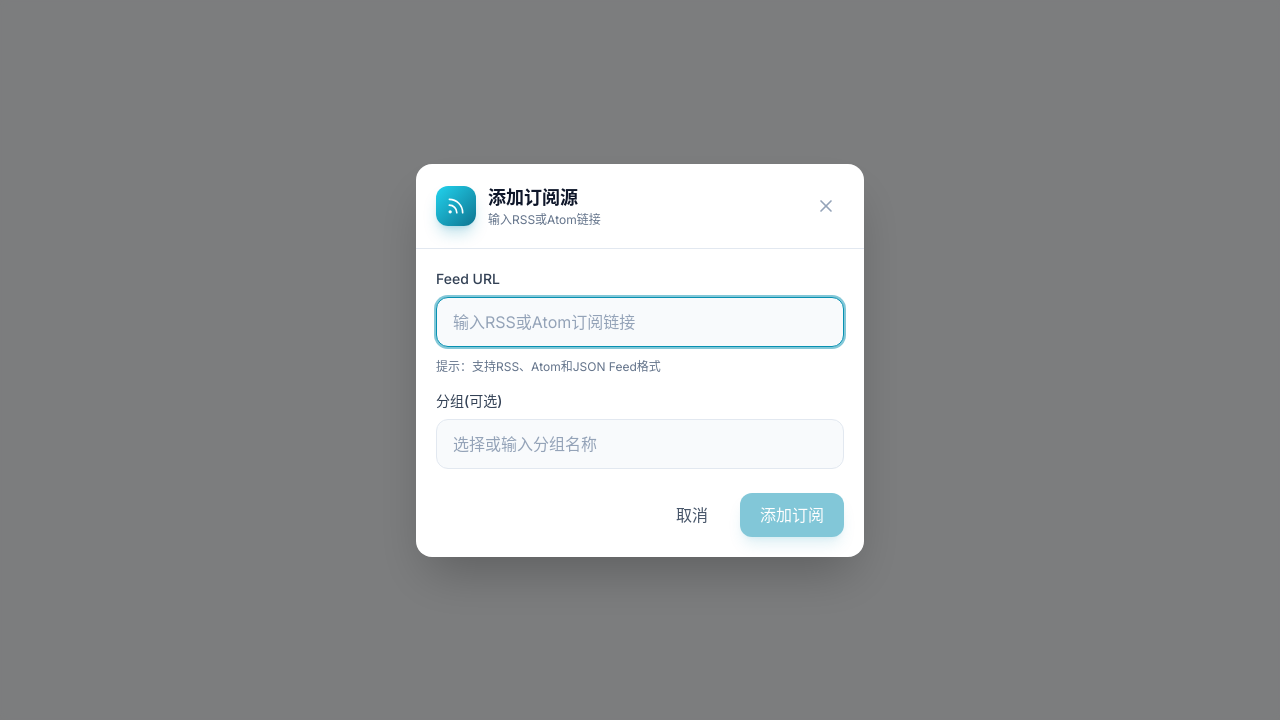
Test: AddFeedModal › should display Connection error message verbatim
In the field labelled "Feed URL": [640, 322] box [436,296,844,346], type "https://example.com/feed.xml"
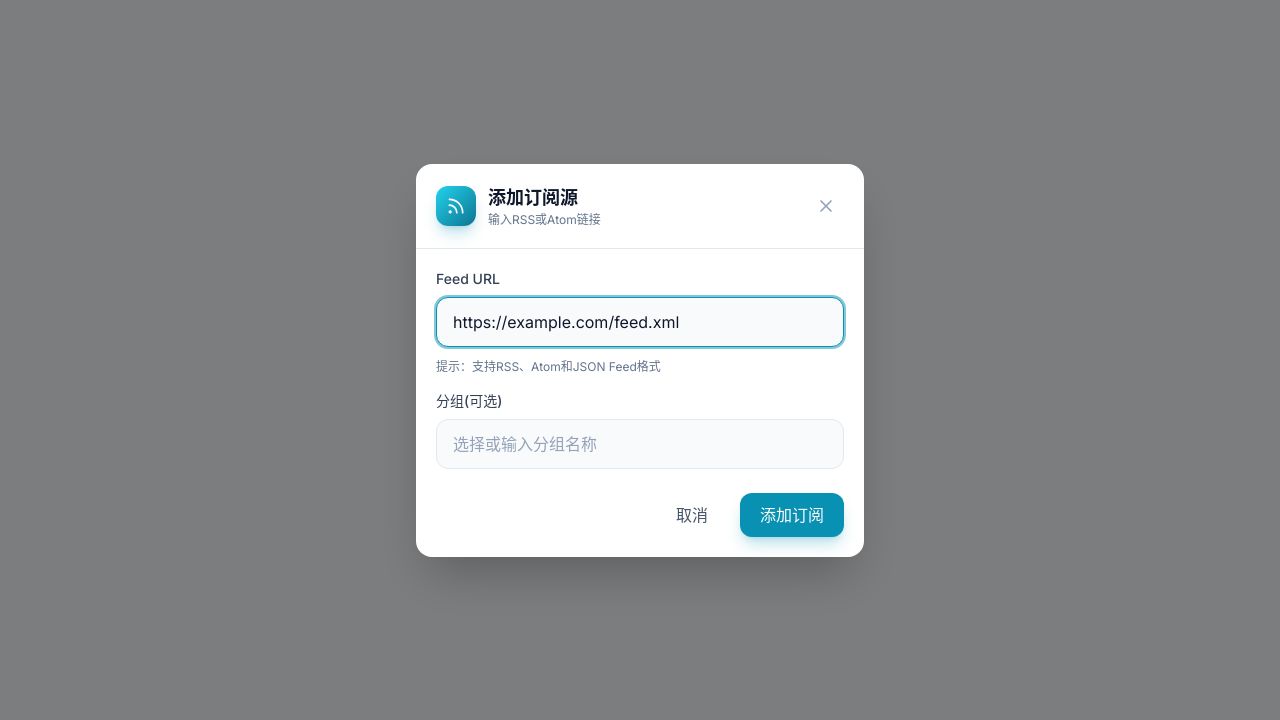
Click the button "添加订阅": [792, 514] box [740,492,844,536]
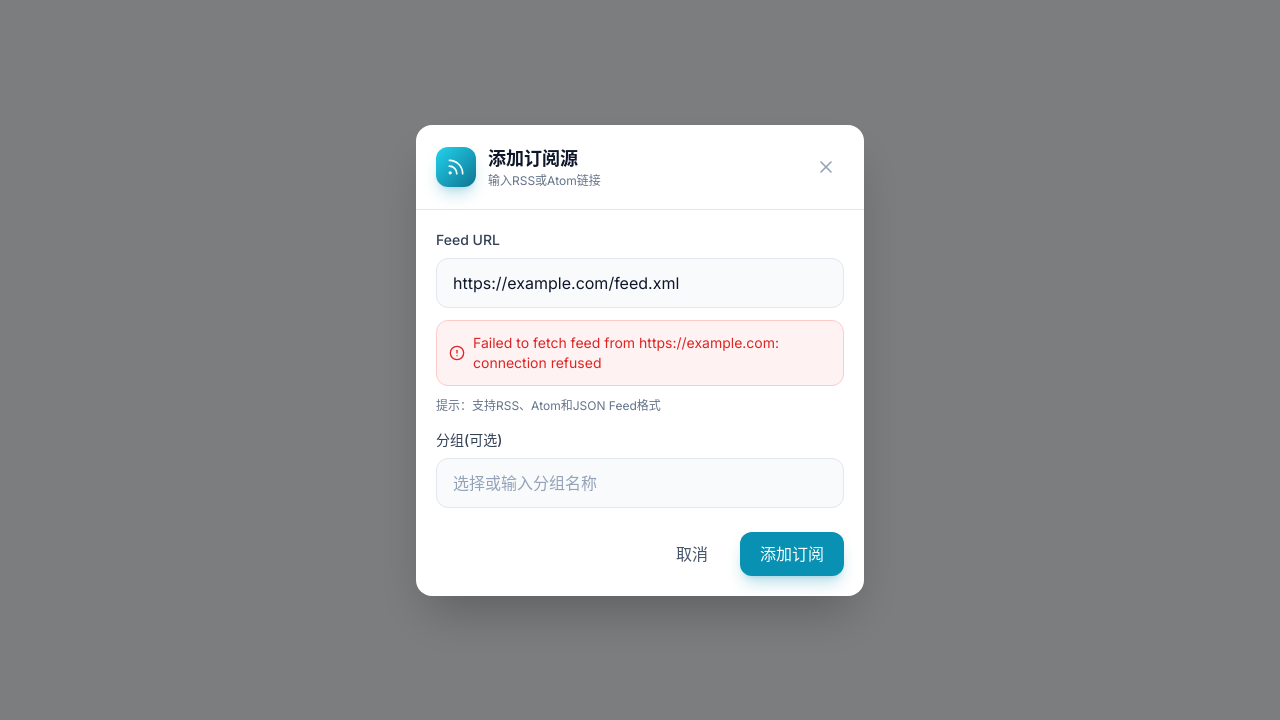
Result: the text "Failed to fetch feed from https://example.com: connection refused" is shown at [473,332,831,372]
